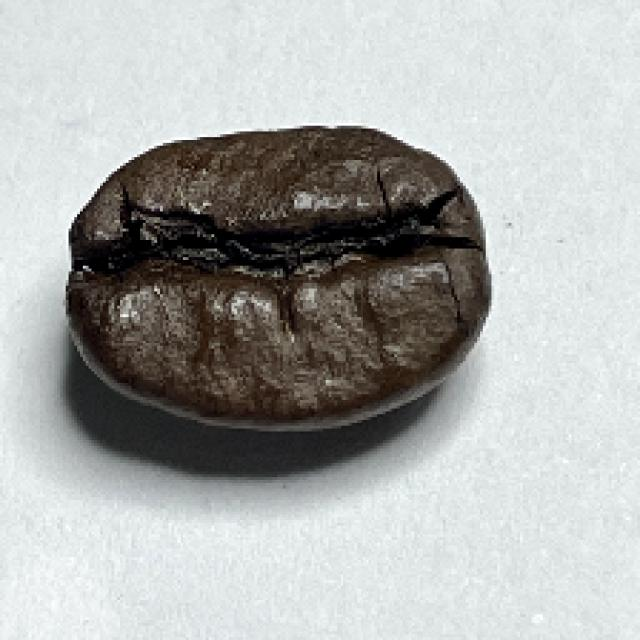bean: (61, 126, 493, 430)
